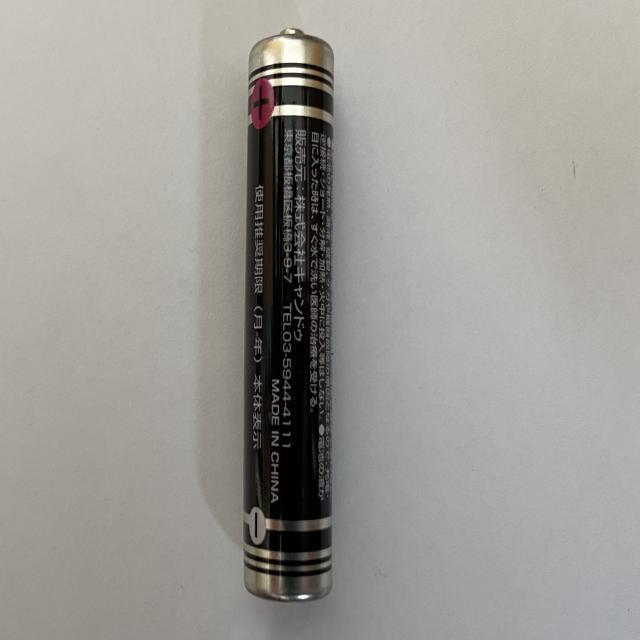AAA: (230, 27, 350, 605)
